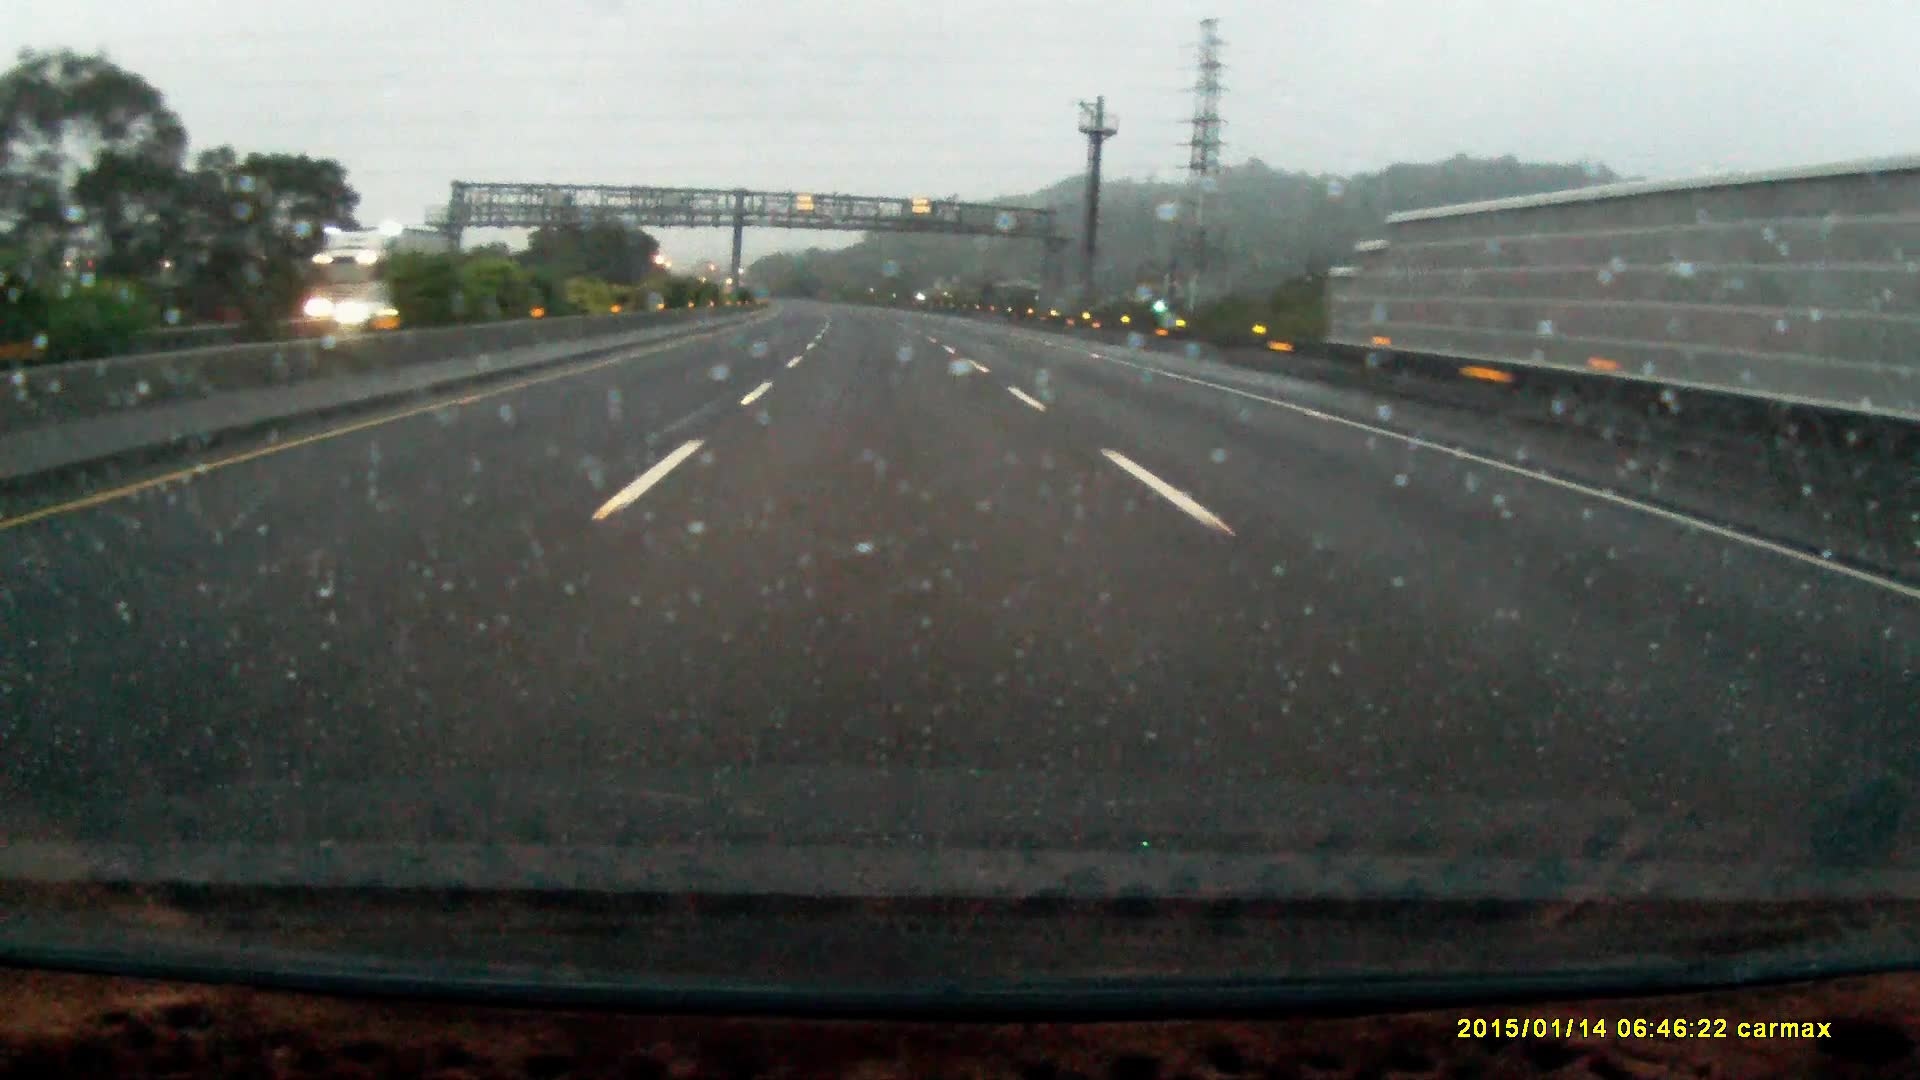vehicle: (305, 229, 450, 327), (336, 284, 422, 330)
